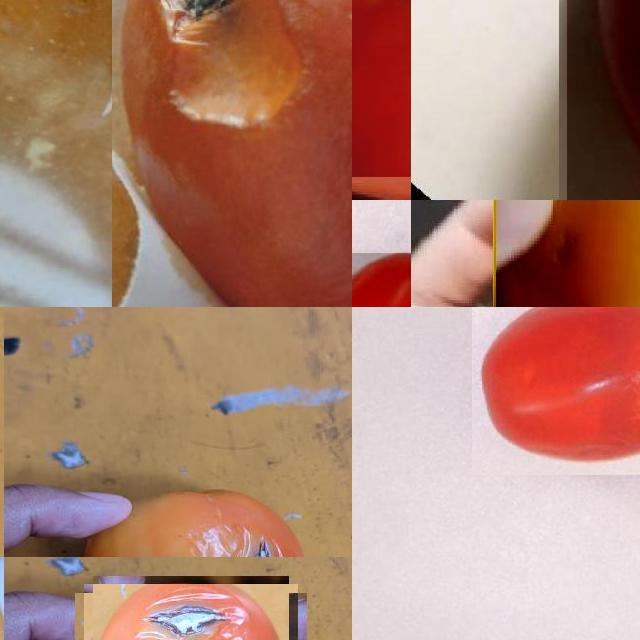1: (112, 0, 352, 307)
Fresh Tomato: (566, 0, 640, 200), (352, 0, 411, 200)
Rotten Tomato: (472, 307, 640, 475), (494, 200, 640, 307), (84, 584, 298, 640)
